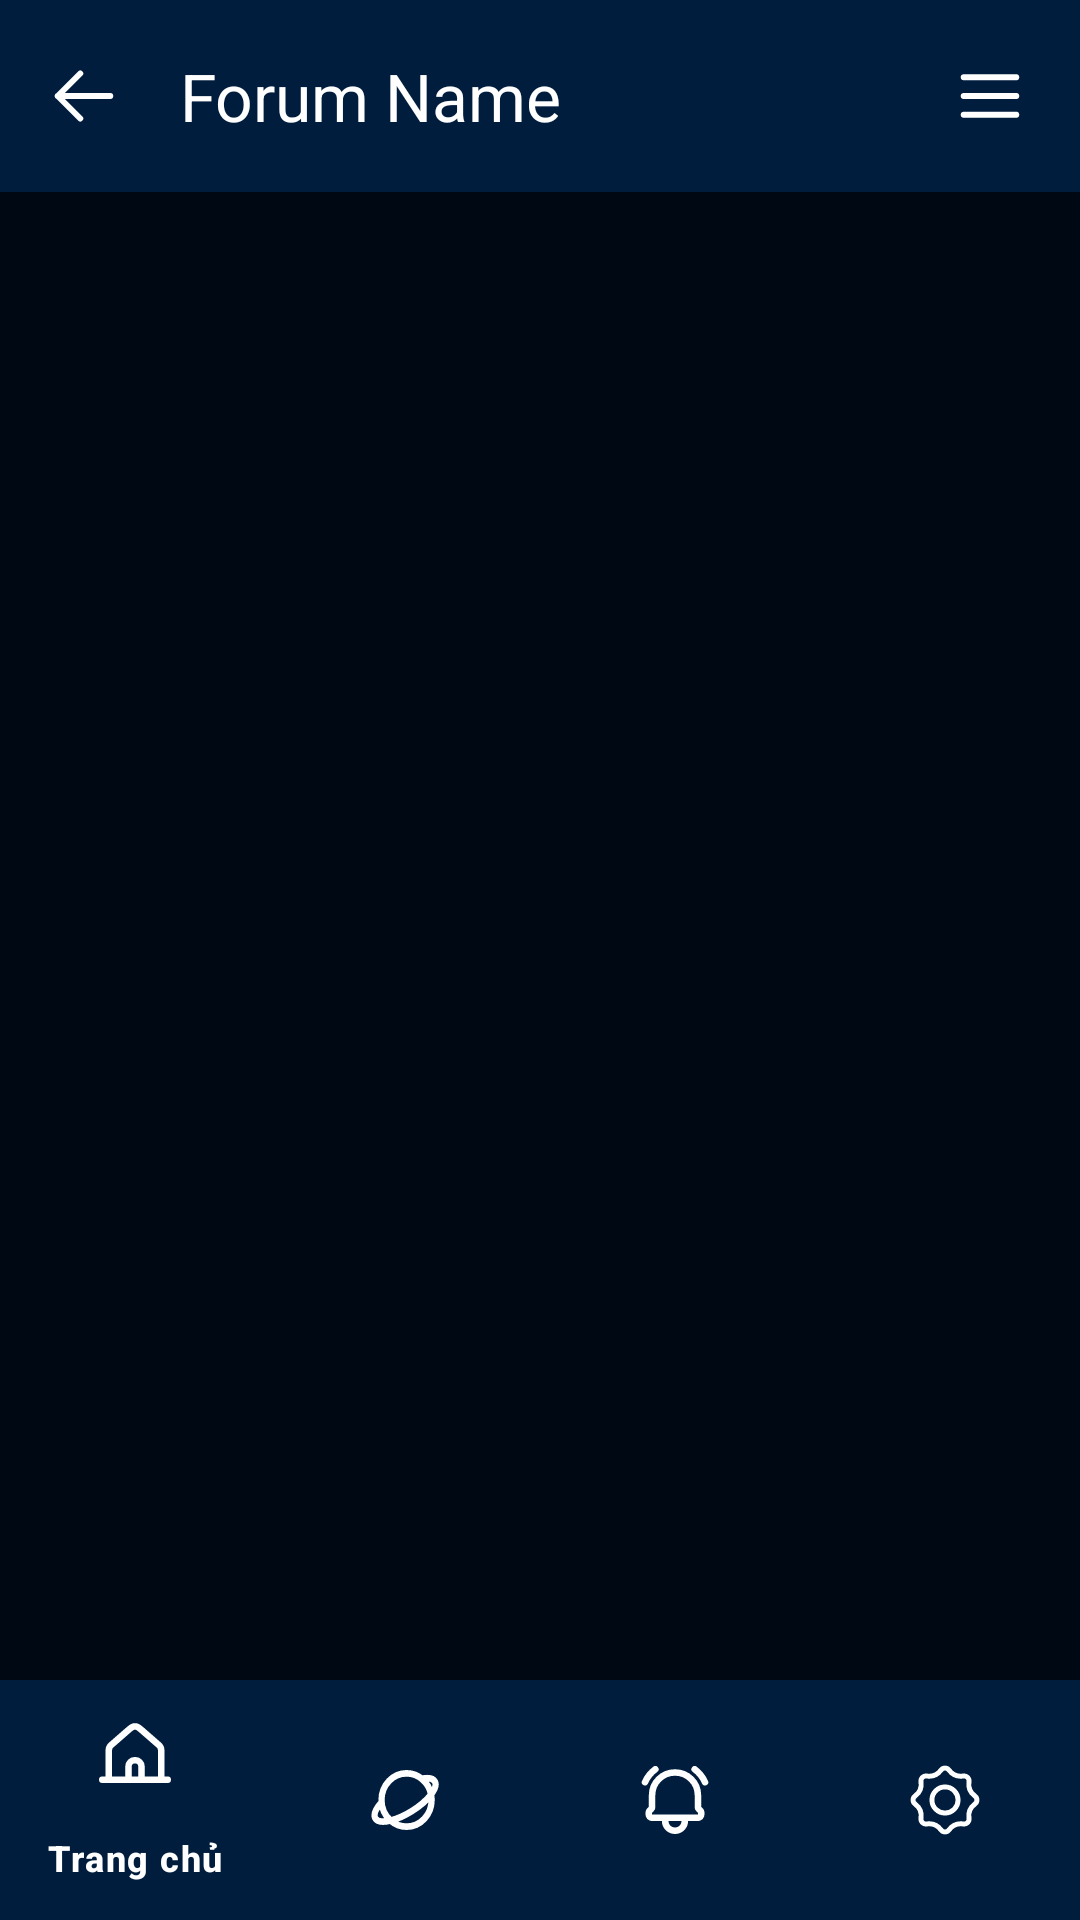

Named icons in this screenshot (1080x1920) and their centers, point (x, y):
drawer: point (990, 96)
